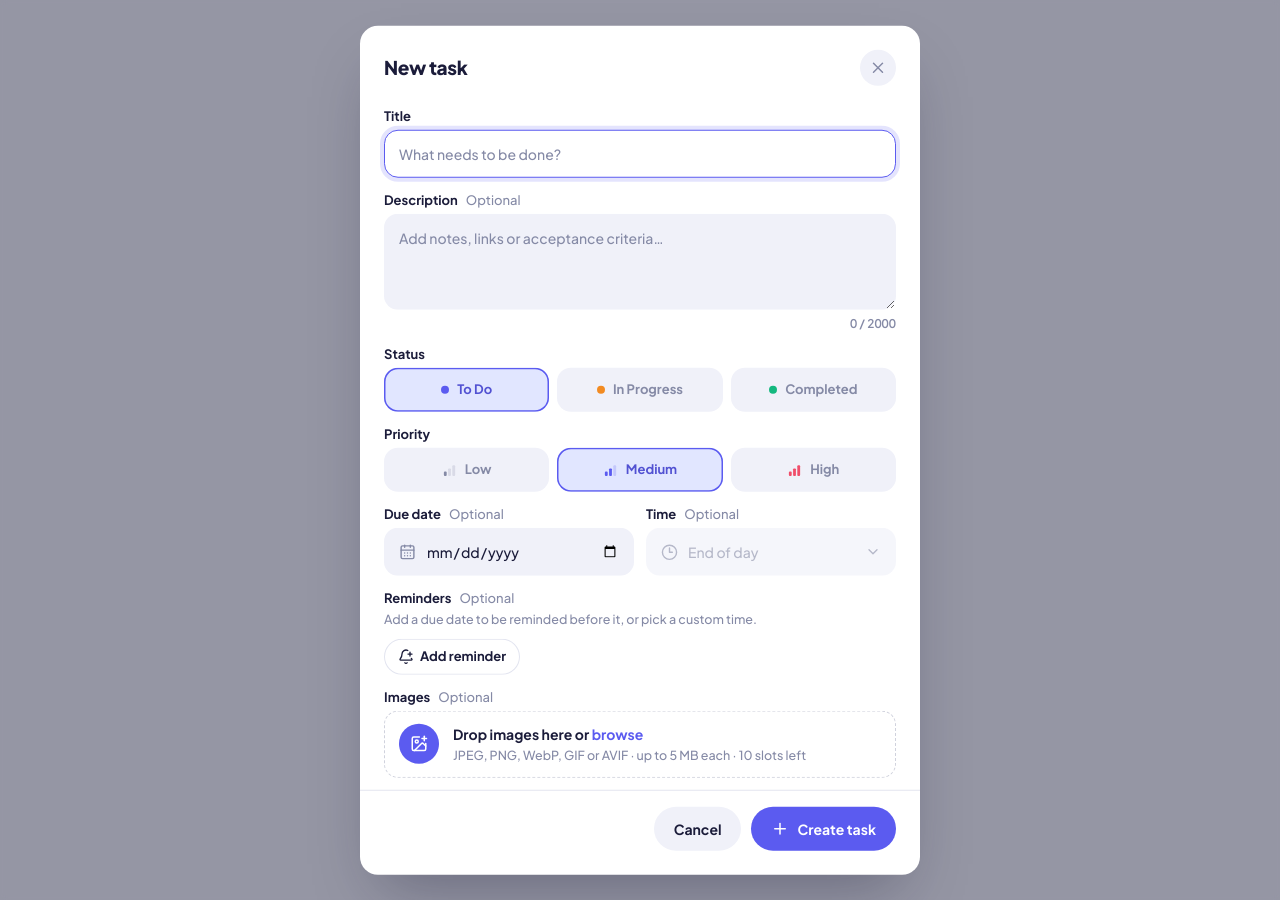
Test: TaskFormDialog reminders › warns when a reminder before the due time has already passed
Type "2020-01-05" into the date field labelled "Due date Optional" at (522, 552), box [426, 530, 619, 574]
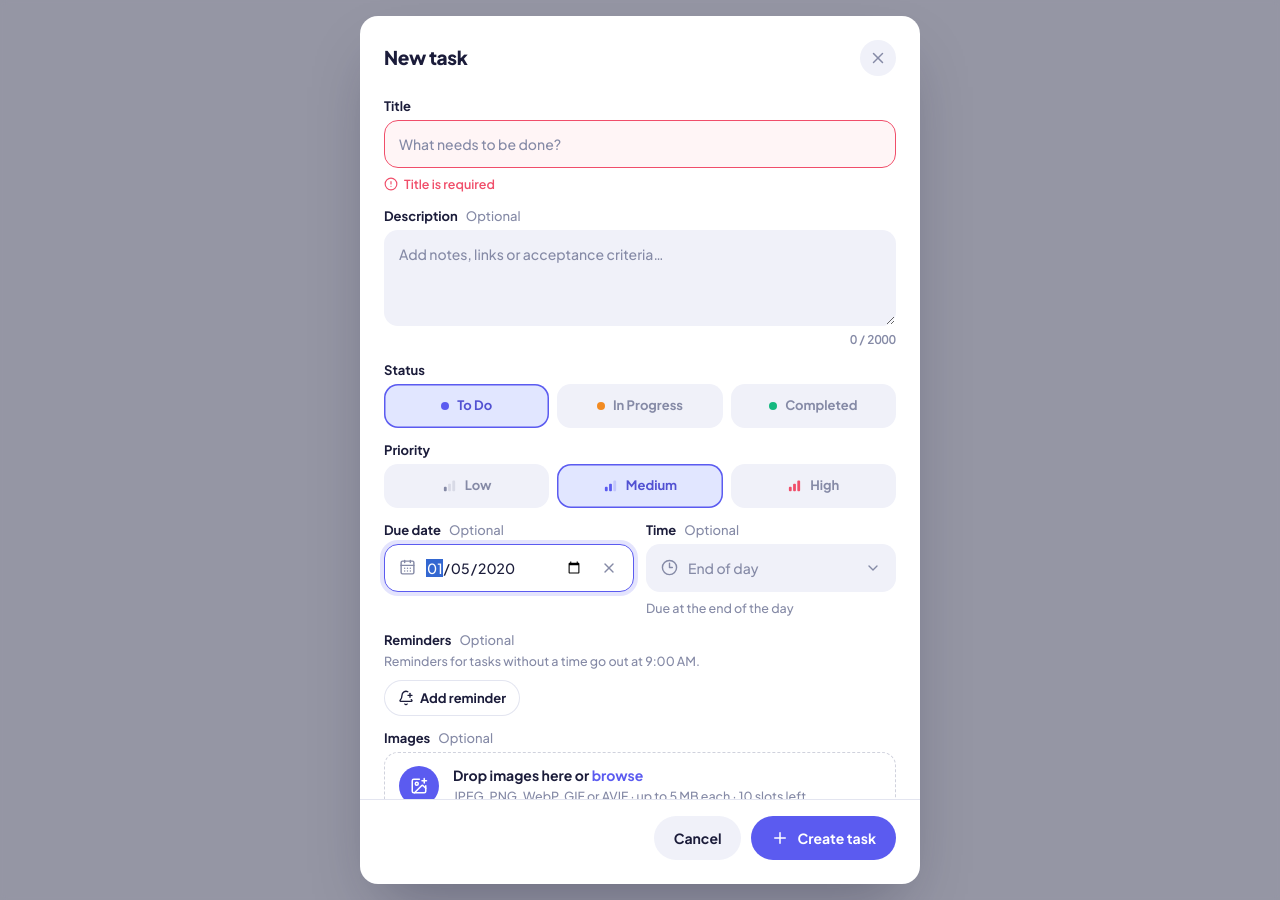
Click the button "Add reminder" at (452, 698), box [384, 680, 520, 716]
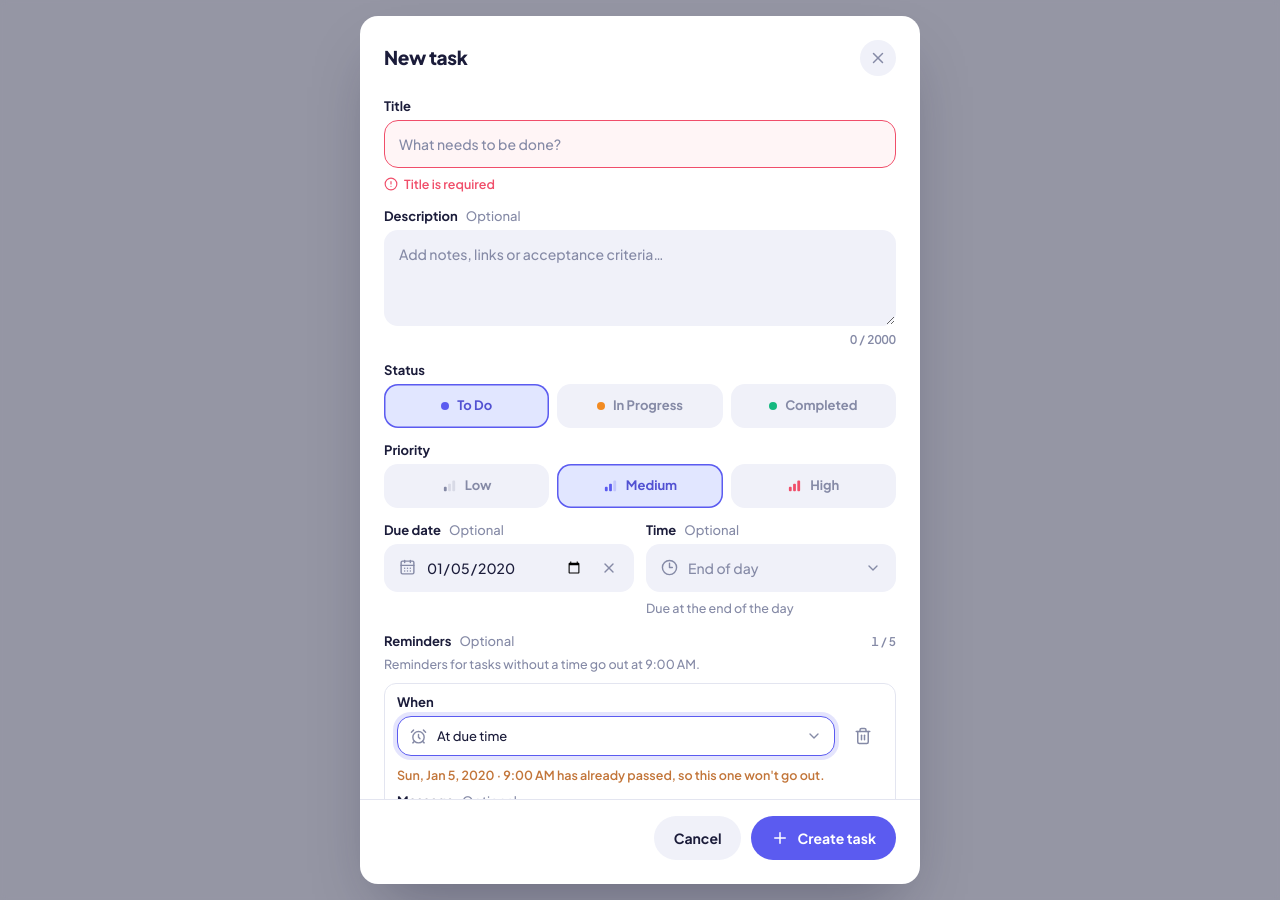
Now the text "has already passed, so this one won't go out" is shown, box [397, 767, 824, 783]
